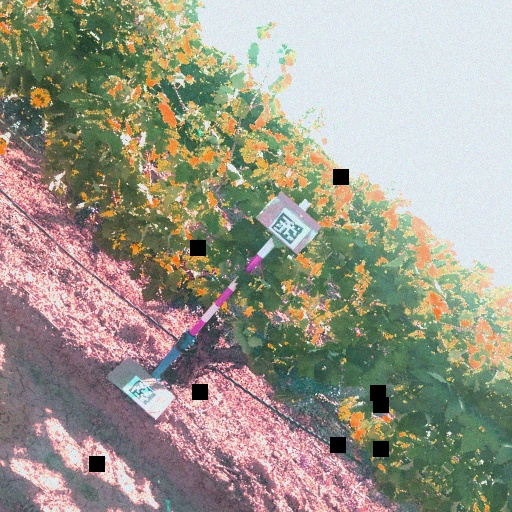QR: (269, 211, 305, 246), (128, 378, 156, 405)
